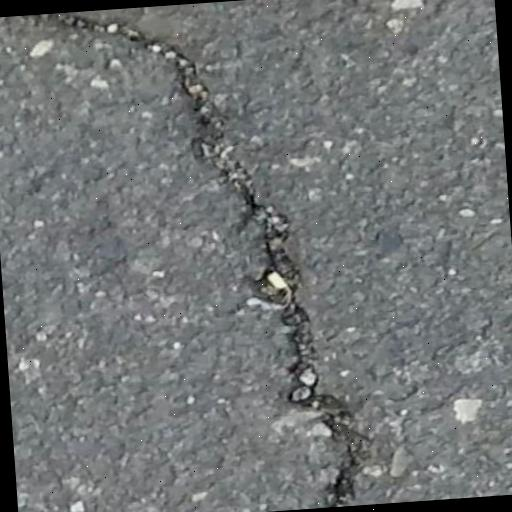spalling: (37, 12, 376, 502)
